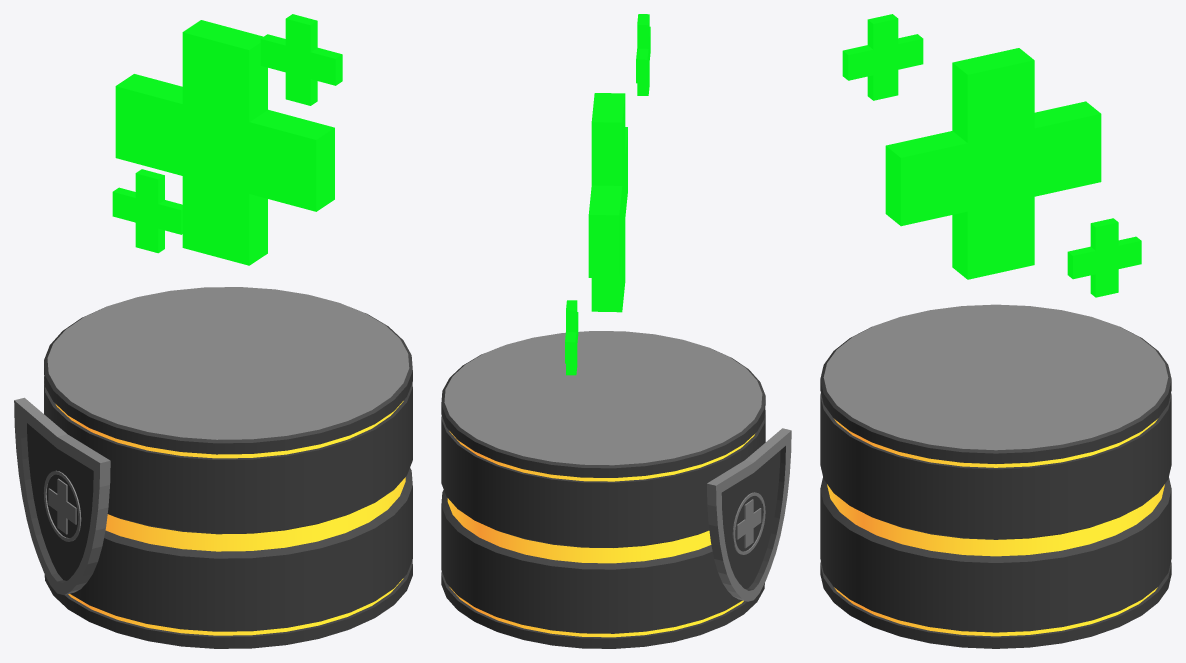
File: powerUp-heal.fbx
3 views of the same model, side by side, from view 1: azimuth 30°, elevation 25°; view 2: azimuth 150°, elevation 25°; view 3: azimuth 270°, elevation 25° (orthographic). The views are drawn at different scales.
Parts seen in each view (by area): view 1: pedana, Power-Up; view 2: pedana, Power-Up; view 3: pedana, Power-Up.
Part boxes in pixels (x1=…): pedana: x1=14, y1=287, x2=412, y2=648; Power-Up: x1=112, y1=14, x2=342, y2=265; pedana: x1=441, y1=331, x2=791, y2=648; Power-Up: x1=565, y1=14, x2=650, y2=375; pedana: x1=820, y1=304, x2=1171, y2=648; Power-Up: x1=842, y1=14, x2=1141, y2=297.
Bounding box in the file's own units: 126 × 216 × 122.
